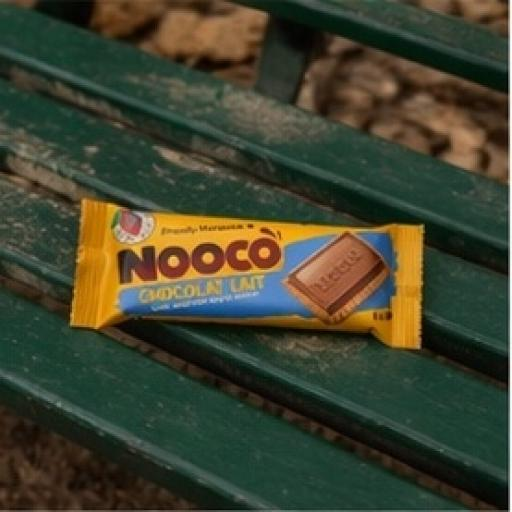nooco: (72, 188, 468, 389)
